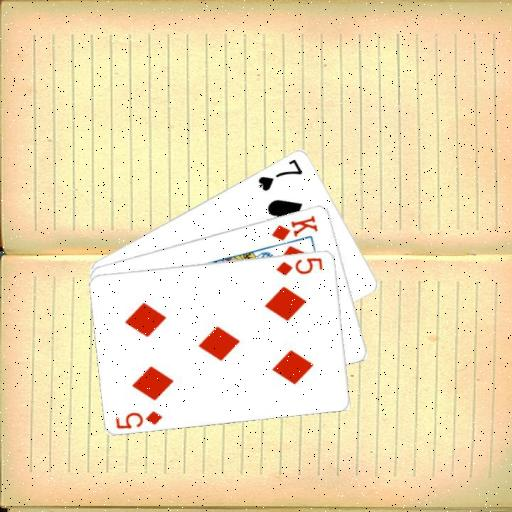5D: (273, 254, 324, 277), (113, 408, 164, 431)
7S: (255, 155, 304, 193)
KD: (268, 212, 320, 242)
